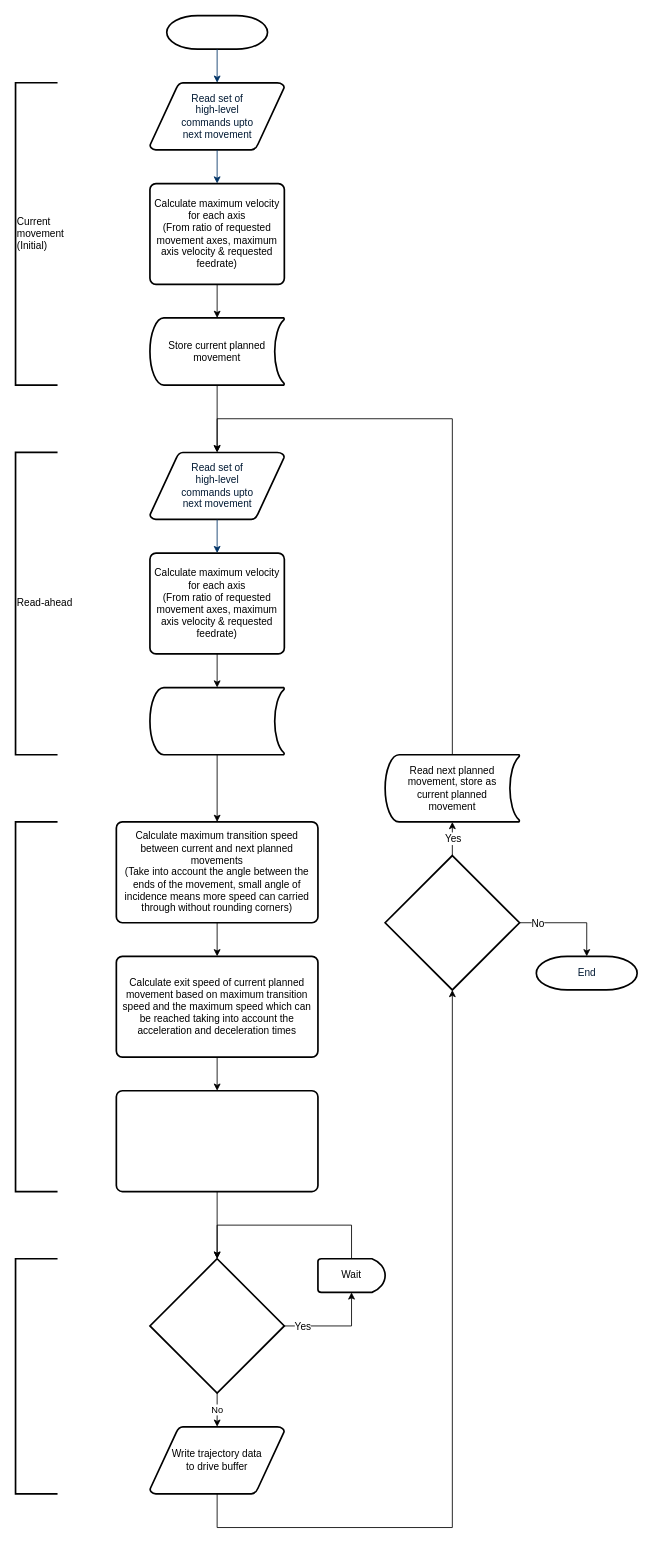
This 652x1549 diagram has some shape labels left out. Here are the shapes that lost their labels. From the top down, the centre of each, then its label:
At (216,32): "S tart".
At (217,720): "Store next planned movement".
At (452,922): "Next planned movement available ?".
At (36,1006): "Trapezoidal velocity profile".
At (216,1140): "Calculate acceleration and deceleration required for current planned movement".
At (217,1325): "Is drive buffer full ?".
At (36,1375): "Output to drive".
